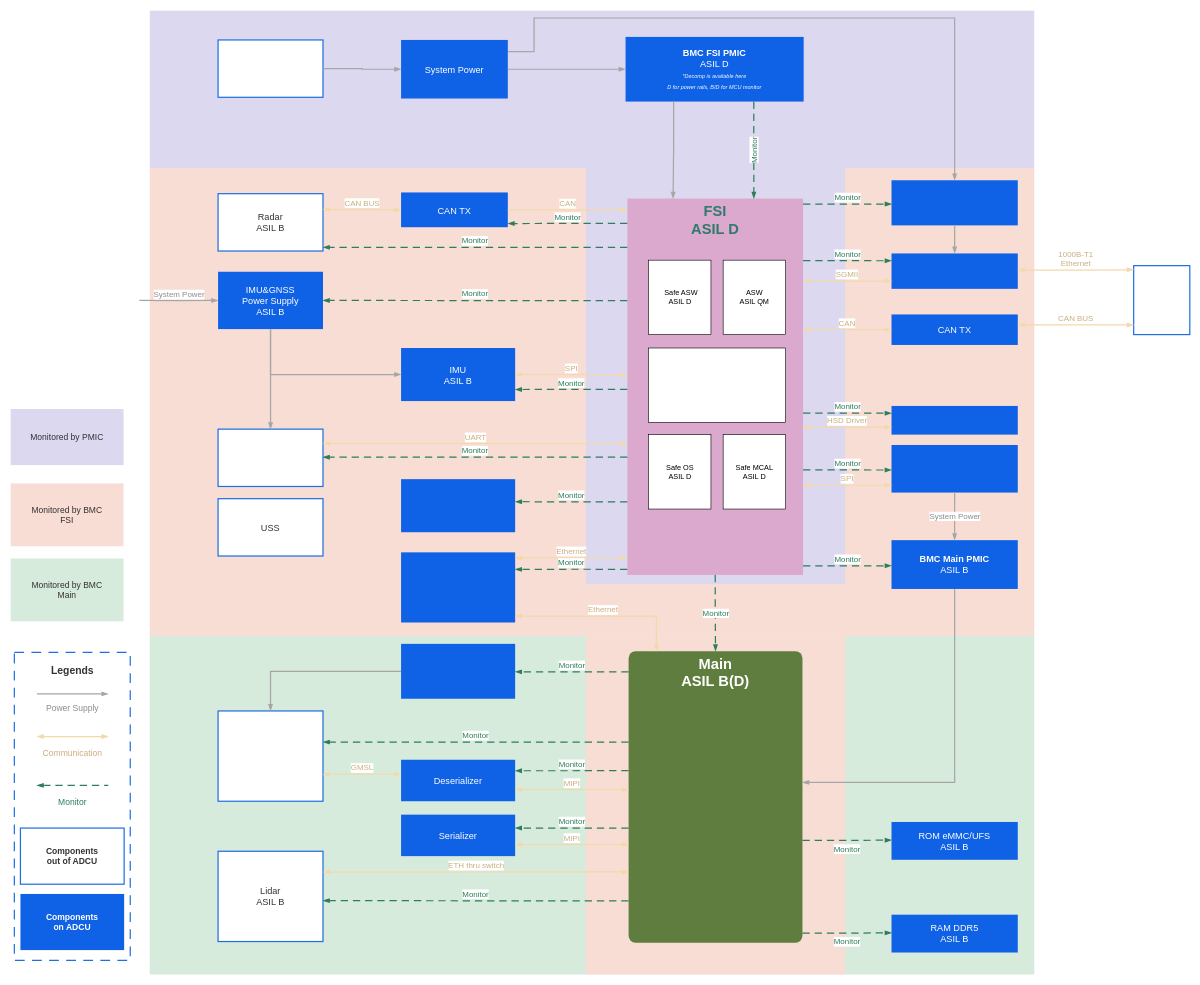
Image size: 1200x985. Some labels were removed from this diagram. The shapes that lost their labels are listed below. From the top down, each one's centre as x and y in pixels, then its label:
At (x=270, y=68): "BAT".
At (x=954, y=202): "Eth Trx Power Supply ASIL B".
At (x=954, y=271): "Eth Trx ASIL B".
At (x=1161, y=300): "External ECUs".
At (x=717, y=384): "Safe BSW ASIL D".
At (x=954, y=420): "HSD_Ciruict（×2）".
At (x=270, y=457): "GNSS+ASIC".
At (x=954, y=468): "Nor_Flash（16MB） MX25UW25345GXDR00 ASIL D".
At (x=458, y=505): "USS ASIC TB185 ASIL B".
At (x=458, y=587): "Ethernet Physical Layer ASIL B".
At (x=458, y=671): "Camera Power Supply ASIL B".
At (x=270, y=756): "Camera ASIL B".
